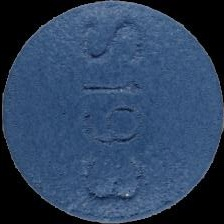54868-5394: (0, 0, 224, 224)
